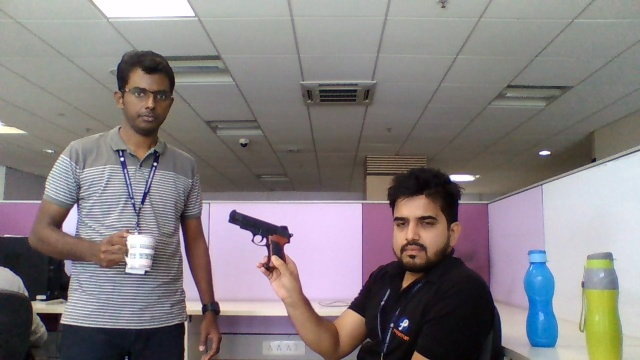gun: (224, 207, 294, 254)
